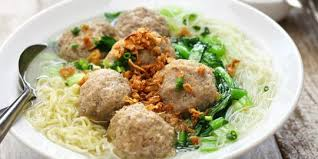bakso: (64, 8, 247, 154)
